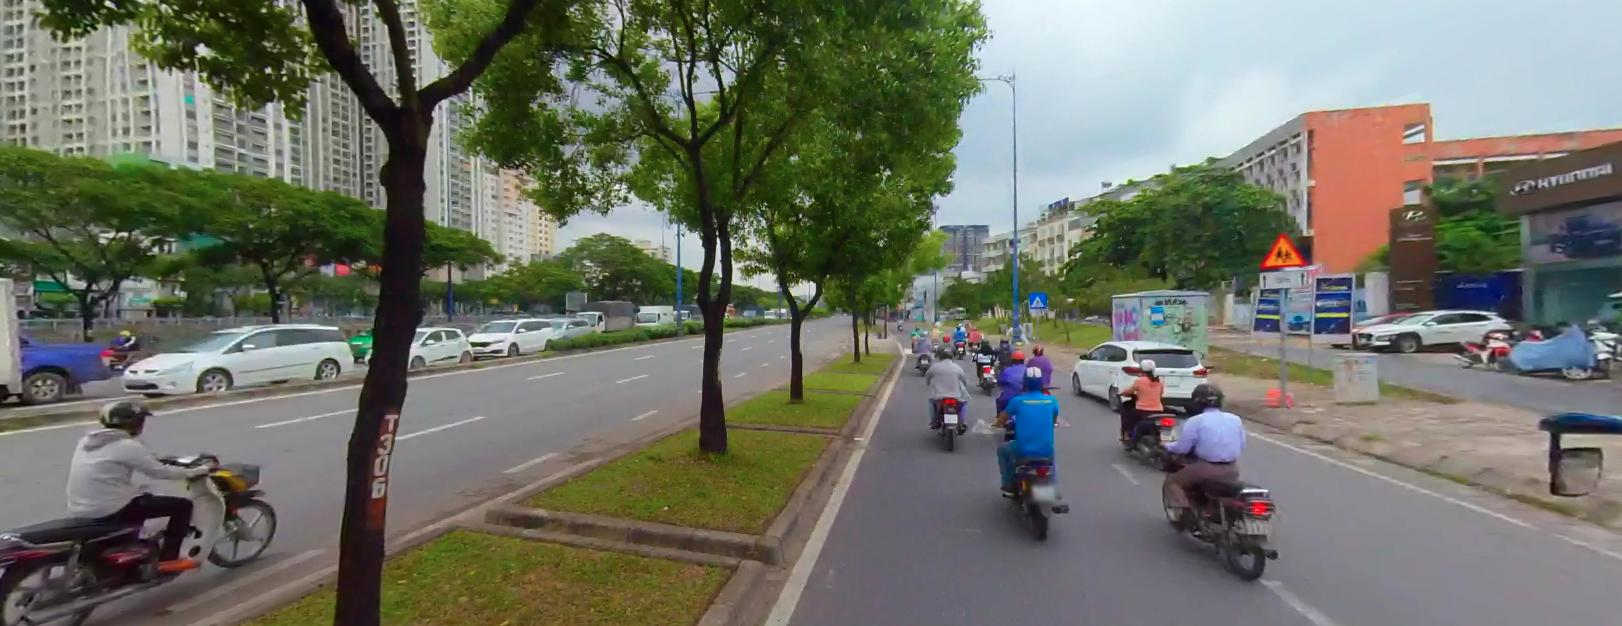Nguy hiem: (1259, 231, 1306, 267)
